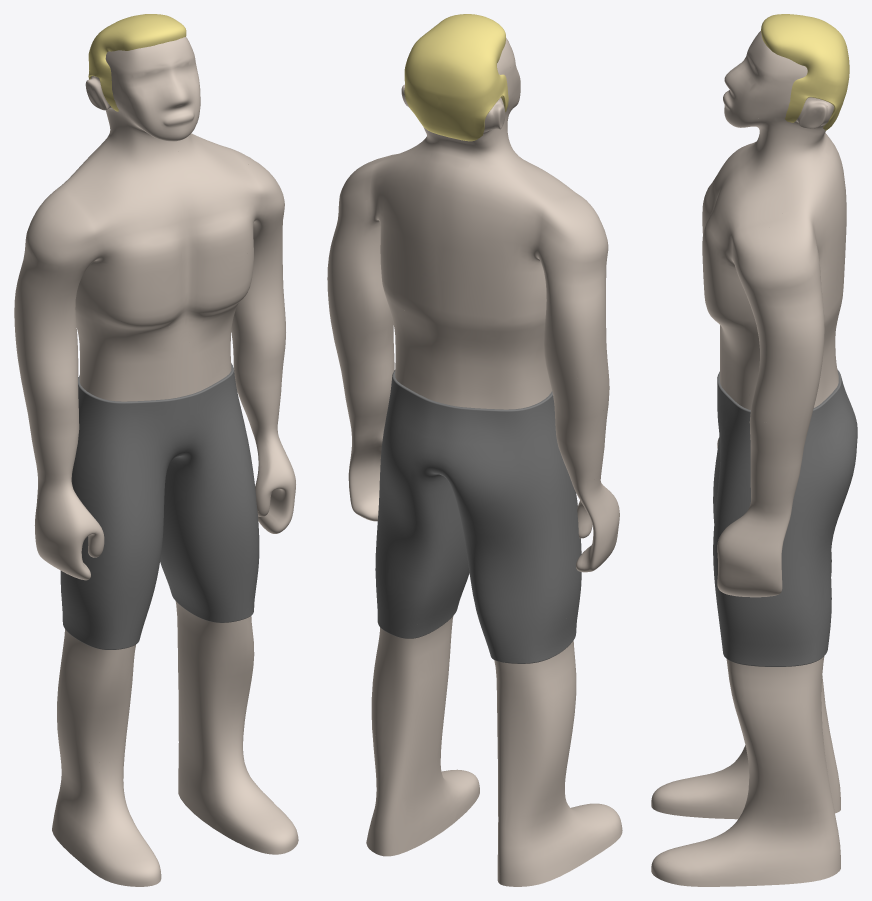
The picture shows the model from 3 angles, left to right: view 1: azimuth 30°, elevation 25°; view 2: azimuth 150°, elevation 25°; view 3: azimuth 270°, elevation 25°; orthographic projection. The views are drawn at different scales.
Visible parts, largest first — view 1: 021_matsumoto; view 2: 021_matsumoto; view 3: 021_matsumoto.
Part boxes in pixels (<box>): 021_matsumoto: <box>14,14,298,886</box>; 021_matsumoto: <box>327,14,622,886</box>; 021_matsumoto: <box>651,14,857,886</box>.
Bounding box in the file's own units: 0.0683 × 0.2025 × 0.0463.
